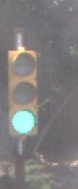Green: (3, 41, 40, 140)
